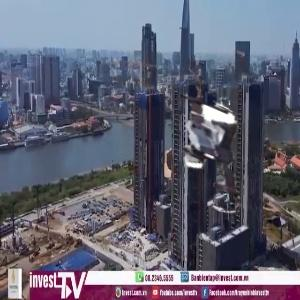drone: (152, 90, 272, 210)
